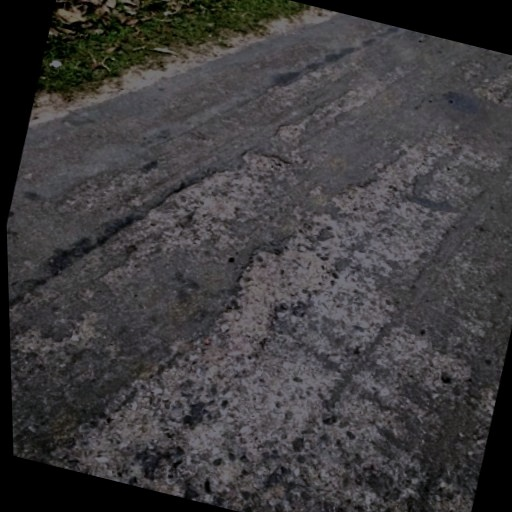pothole: (144, 124, 300, 257), (213, 222, 343, 358)
